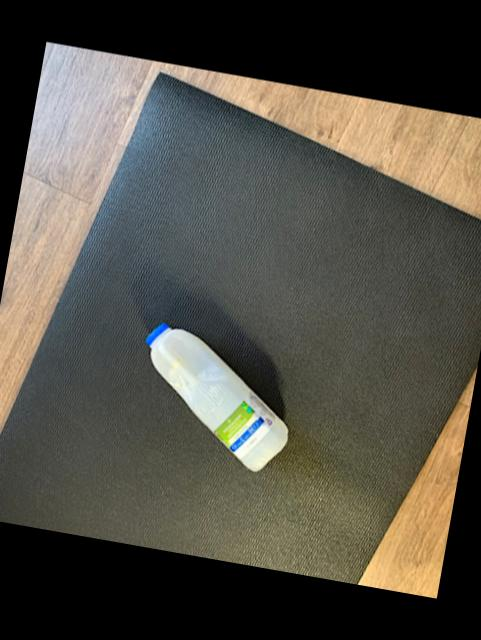plastic: (144, 322, 285, 469)
